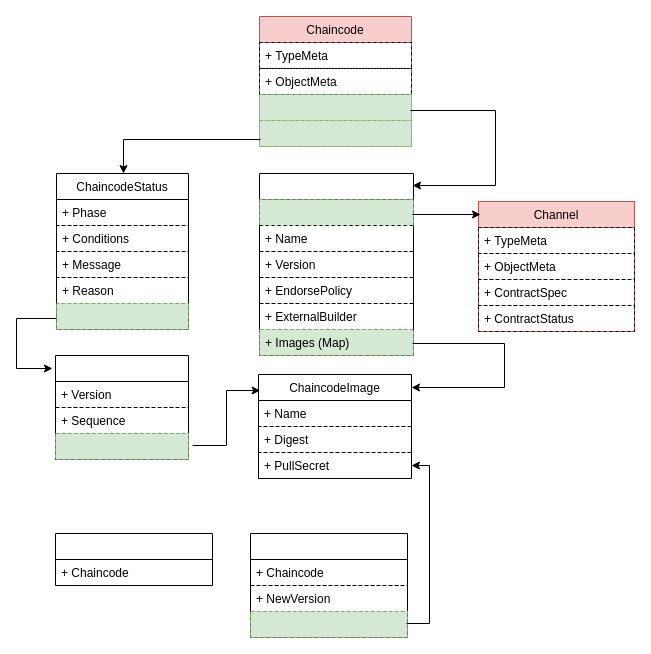
The diagram is 651 pixels wide and 654 high, and some of its shapes have lost their labels. Each missing label, with the box of its shape:
+ ChaincodeSpec: (258, 94, 412, 120)
+ ChaincodeStatus: (258, 120, 412, 146)
+ Channel: (258, 198, 414, 226)
+ History (Array): (56, 302, 188, 330)
+ Image: (54, 432, 188, 460)
+ NewChaincodeImage: (250, 610, 408, 638)
ChaincodeHistory: (54, 354, 188, 460)
ChaincodeSpec: (258, 172, 414, 356)
DeployChaincodeProposal: (54, 532, 212, 586)
UpgradeChaincodeProposal: (250, 532, 408, 638)
